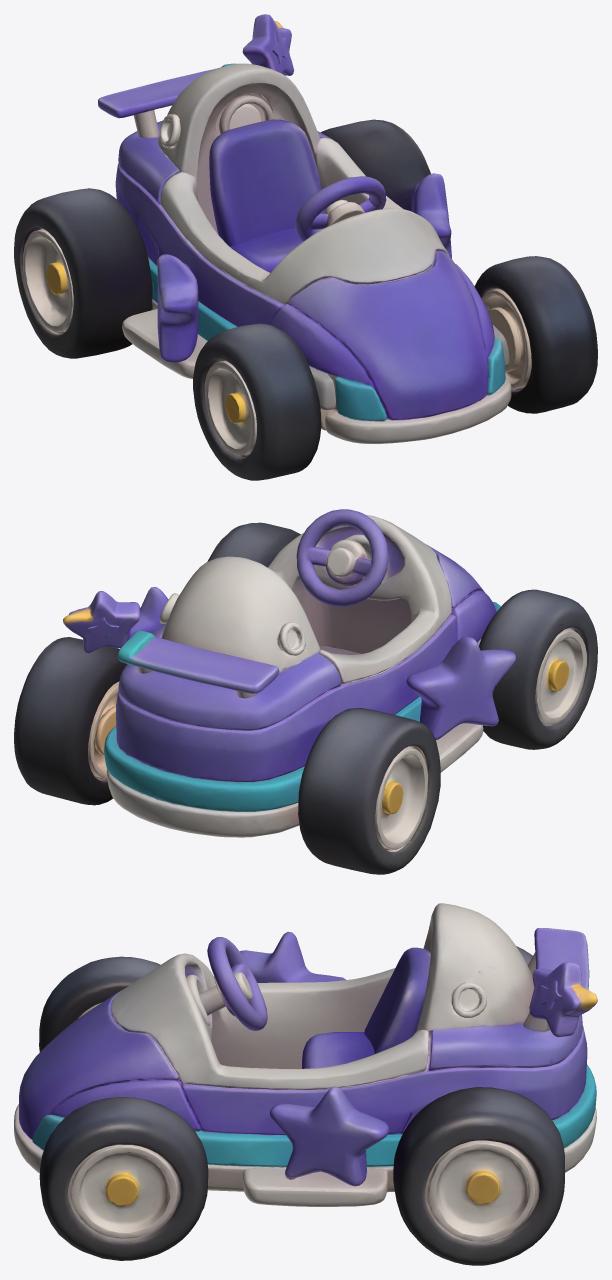
File: nova-cartoon-runtime.glb
The picture shows the model from 3 angles, top to bottom: view 1: azimuth 30°, elevation 25°; view 2: azimuth 150°, elevation 25°; view 3: azimuth 270°, elevation 25°; orthographic projection. The views are drawn at different scales.
Visible parts, largest first — view 1: model; view 2: model; view 3: model.
Part boxes in pixels (x1,y1,x2,y2): model: (14,14,597,480); model: (14,509,597,874); model: (14,903,597,1265).
Size of the model in its own units: 1.41 by 0.968 by 1.9.
1 material, 1 textured.
